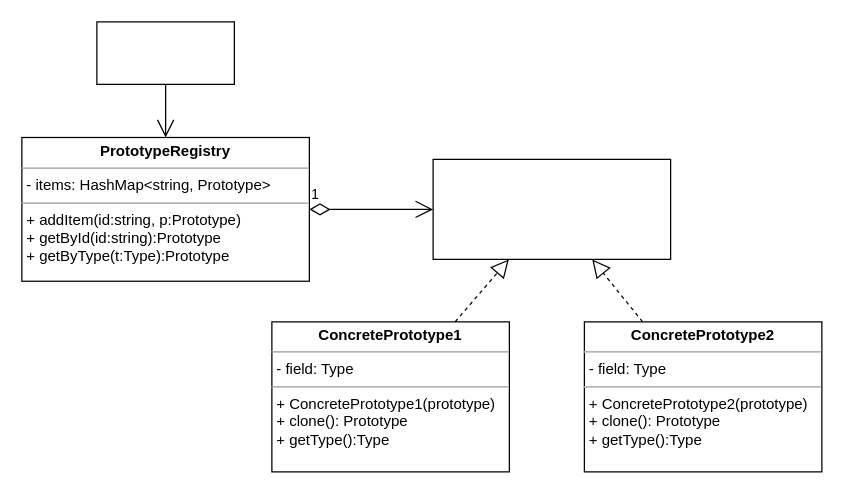
The diagram is 844 pixels wide and 494 high, and some of its shapes have lost their labels. Here are the shapes that lost their labels. From the top down, the centre of each, then its label:
point 165,52: Client
point 551,208: <<Interface>> Prototype + getColor():string + clone():Prototype
